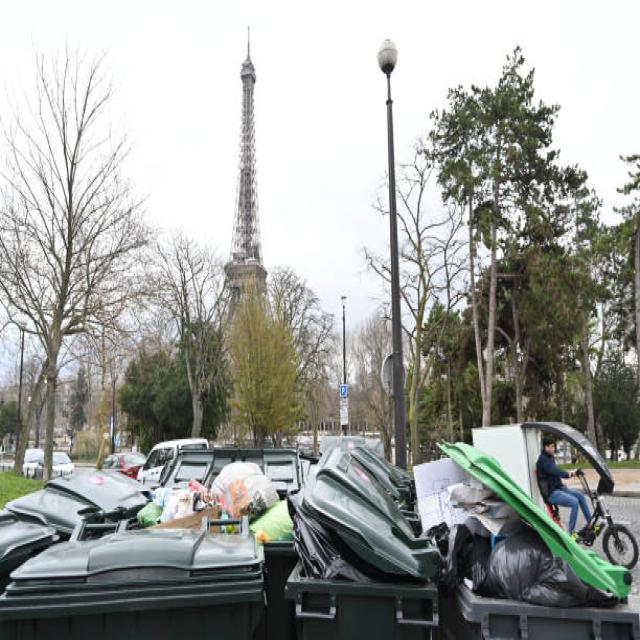trash: (43, 446, 583, 610)
